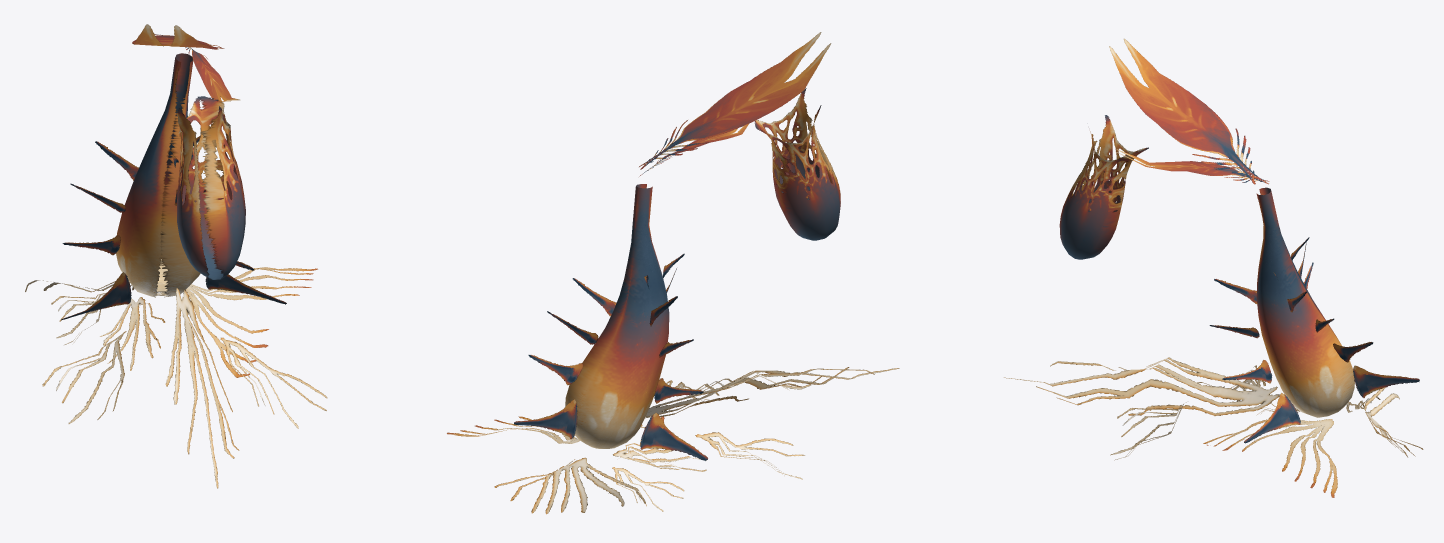
3 renders of one model, left to right at view 1: azimuth 30°, elevation 25°; view 2: azimuth 150°, elevation 25°; view 3: azimuth 270°, elevation 25°, orthographic. The views are drawn at different scales.
Parts seen in each view (by area): view 1: A04.005; view 2: A04.005; view 3: A04.005.
Part boxes in pixels (bbox=[...]): A04.005: bbox=[25, 24, 327, 488]; A04.005: bbox=[447, 32, 899, 514]; A04.005: bbox=[1004, 38, 1423, 497].
Size of the model in its own units: 804 by 883 by 1005.
